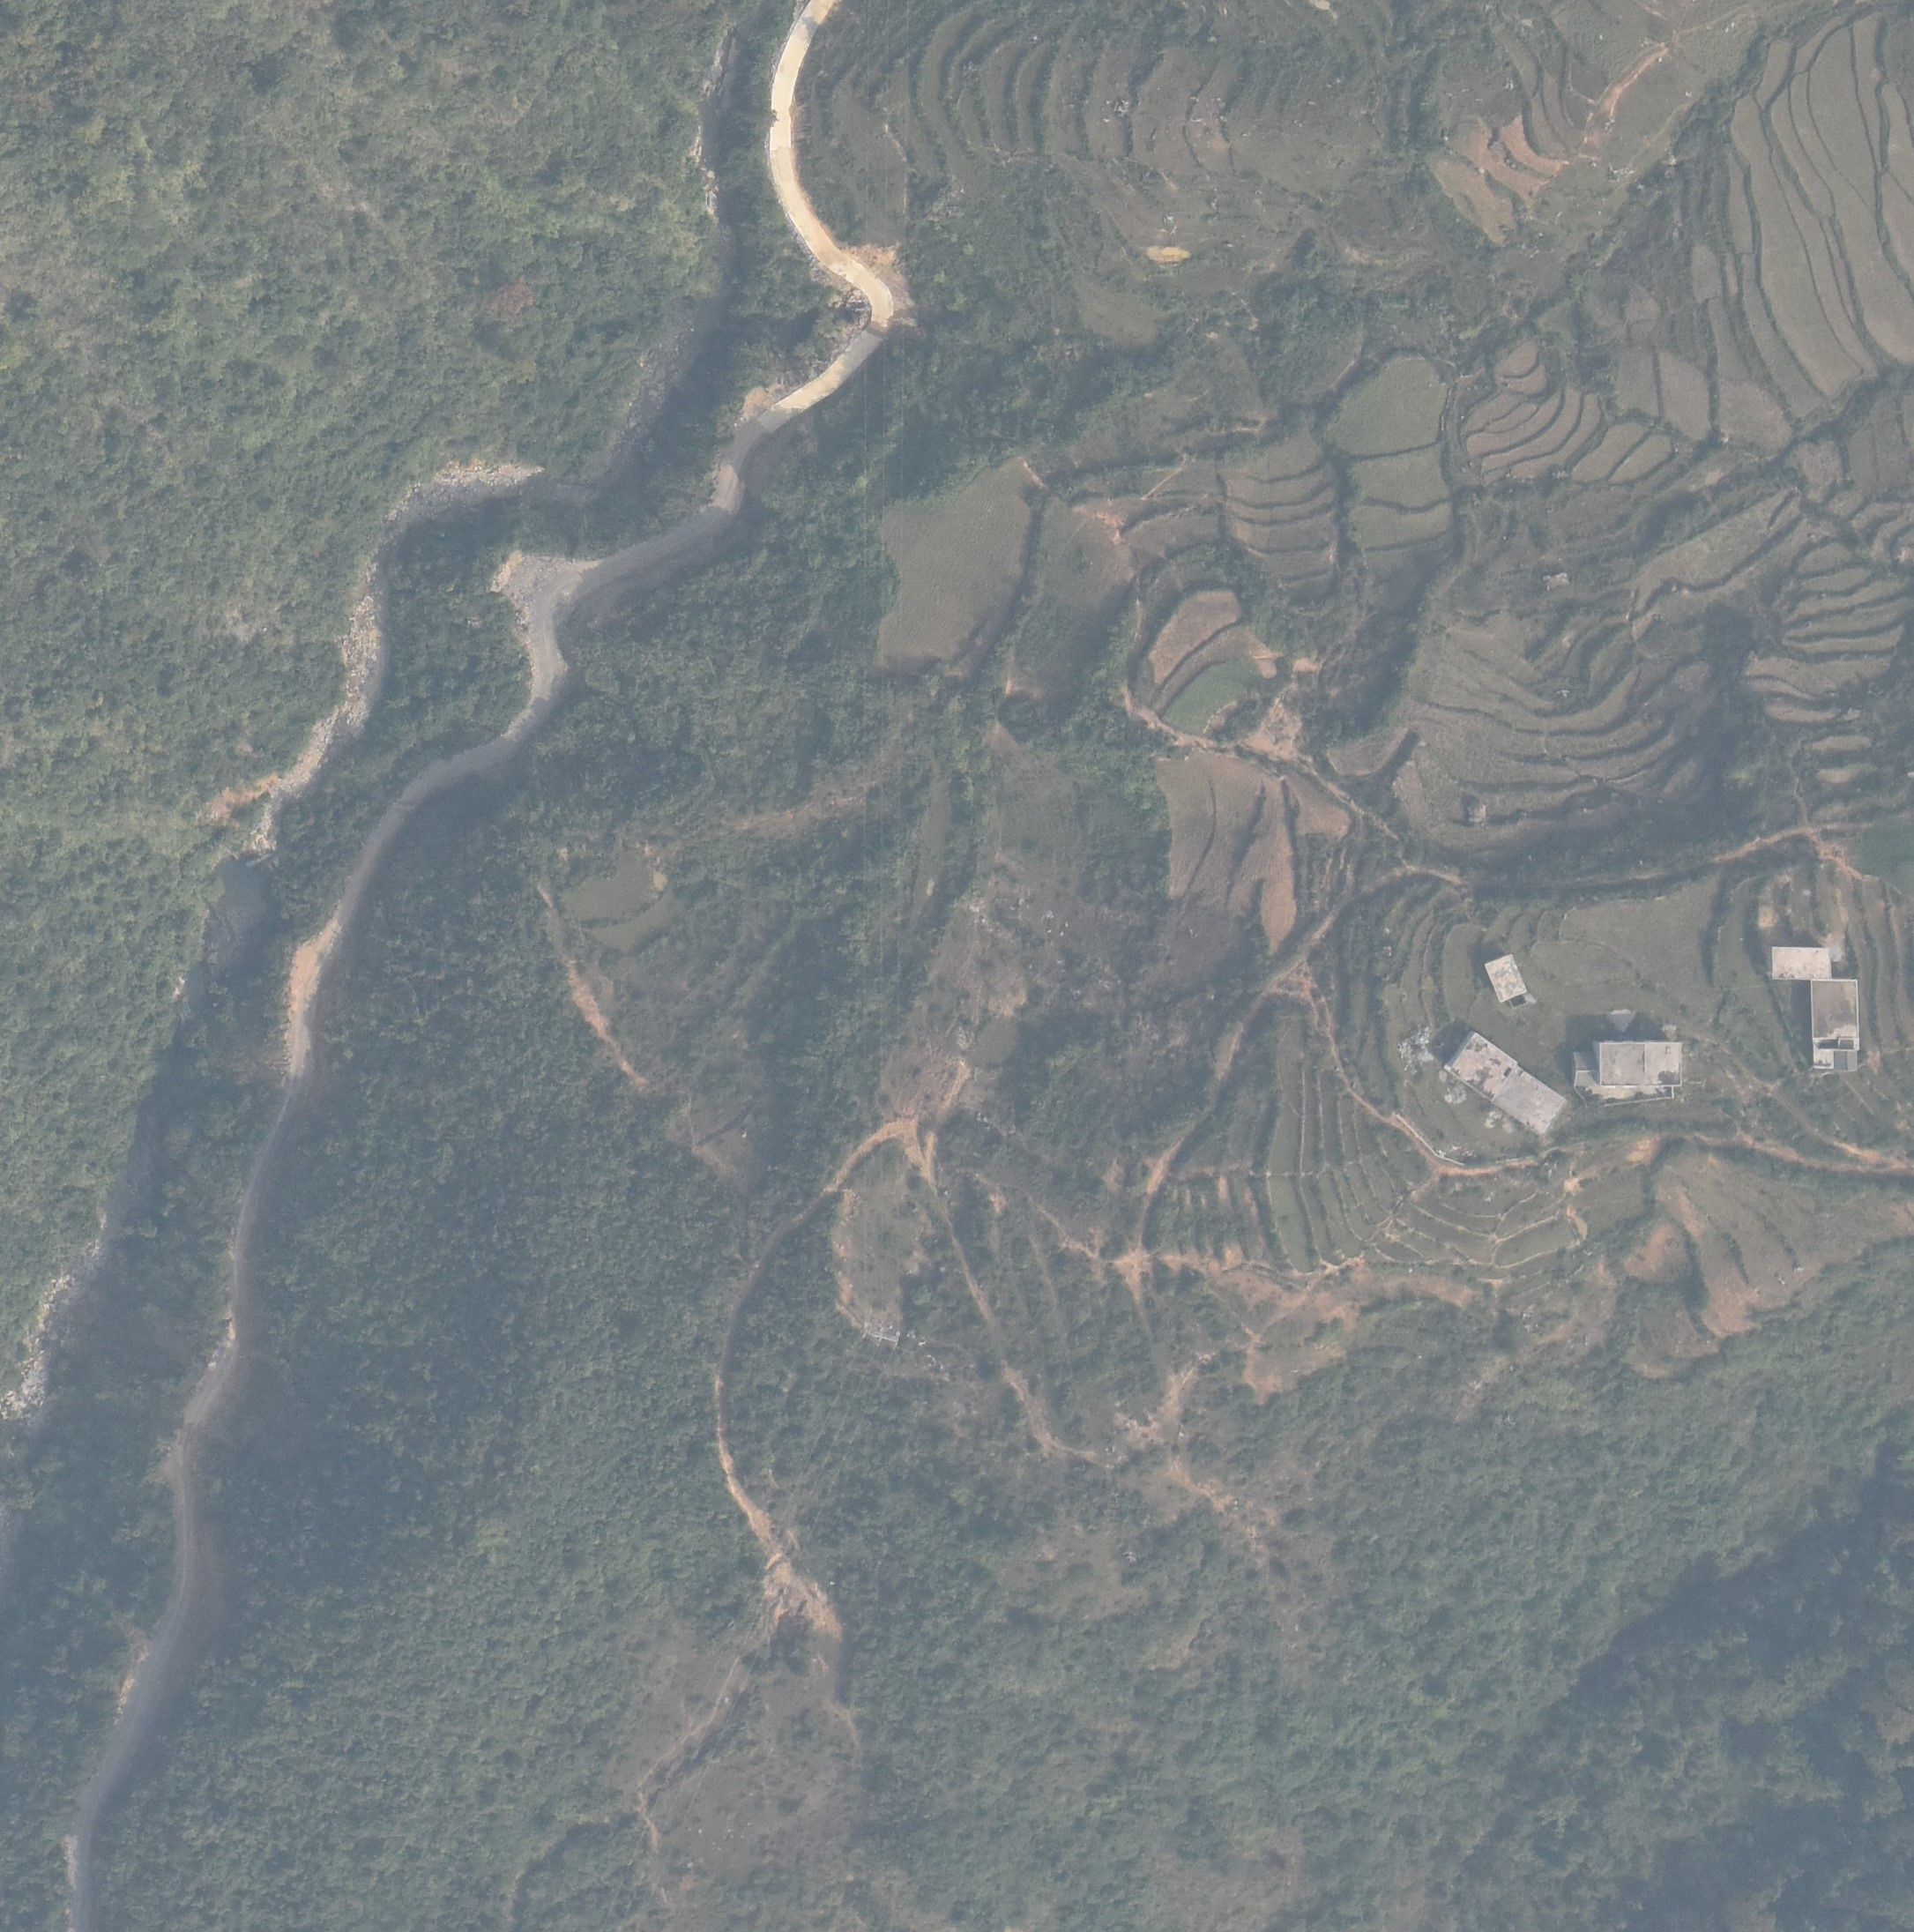building: (1441, 1029, 1568, 1132), (1572, 1037, 1683, 1099), (1810, 978, 1858, 1070), (1483, 951, 1528, 1010), (1765, 945, 1831, 982)
cable-tower: (862, 1323, 901, 1348)
